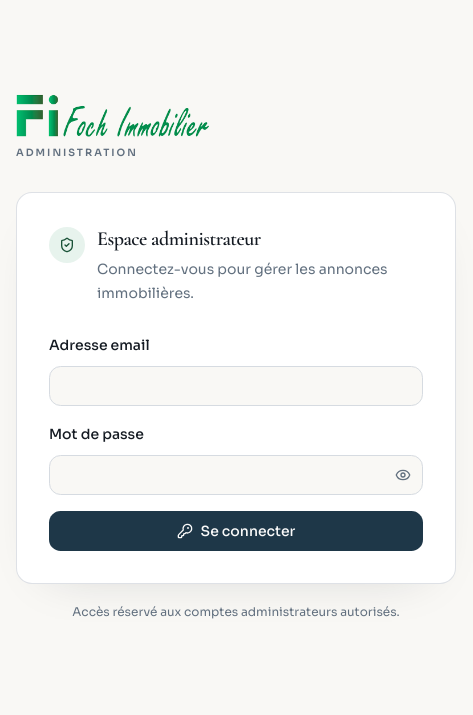
Test: admin login validation › blocks a malformed email on submit even when the field was not blurred
Check: the heading "Espace administrateur" is shown, box [97,227,261,251]
Type "not-an-email" into the field labelled "Adresse email" at (236, 386), box [49,366,423,406]
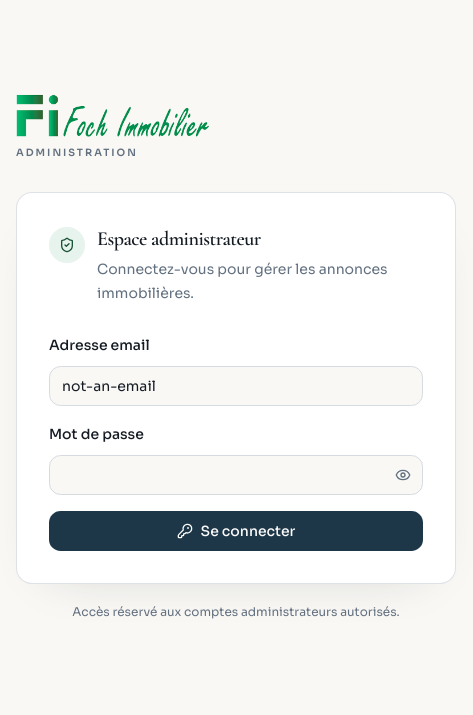
Type "password" into the password field labelled "Mot de passe" at (236, 475), box [49,455,423,495]
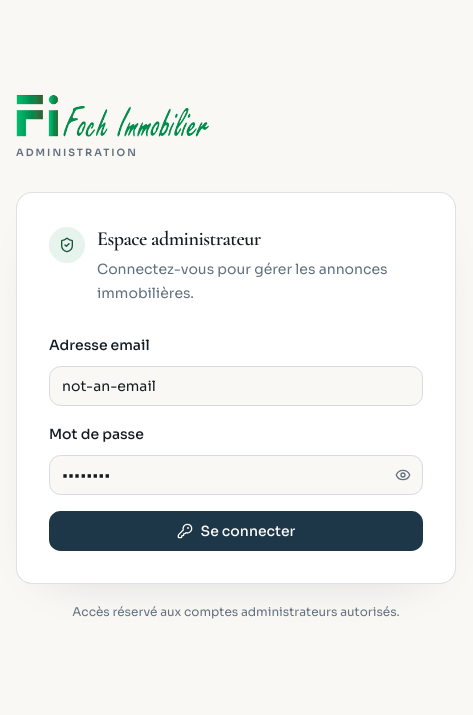
Check: the text "Vérifiez l’adresse email" is not shown
Submit the form "Se connecter", box [49,333,423,551]
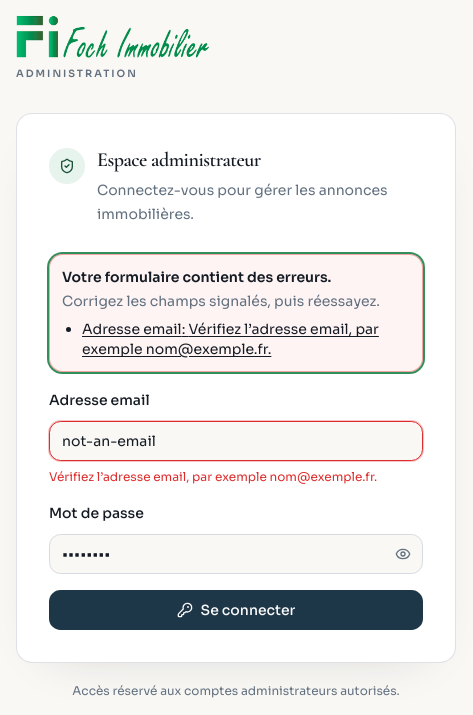
Check: the text "Vérifiez l’adresse email, par exemple nom@exemple.fr." is shown, box [49,469,423,485]
